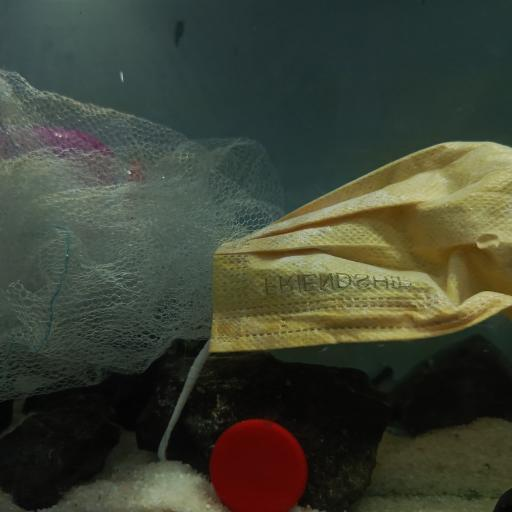bottle_cap: (208, 415, 308, 512)
mask: (201, 135, 512, 362)
net: (0, 62, 295, 400)
